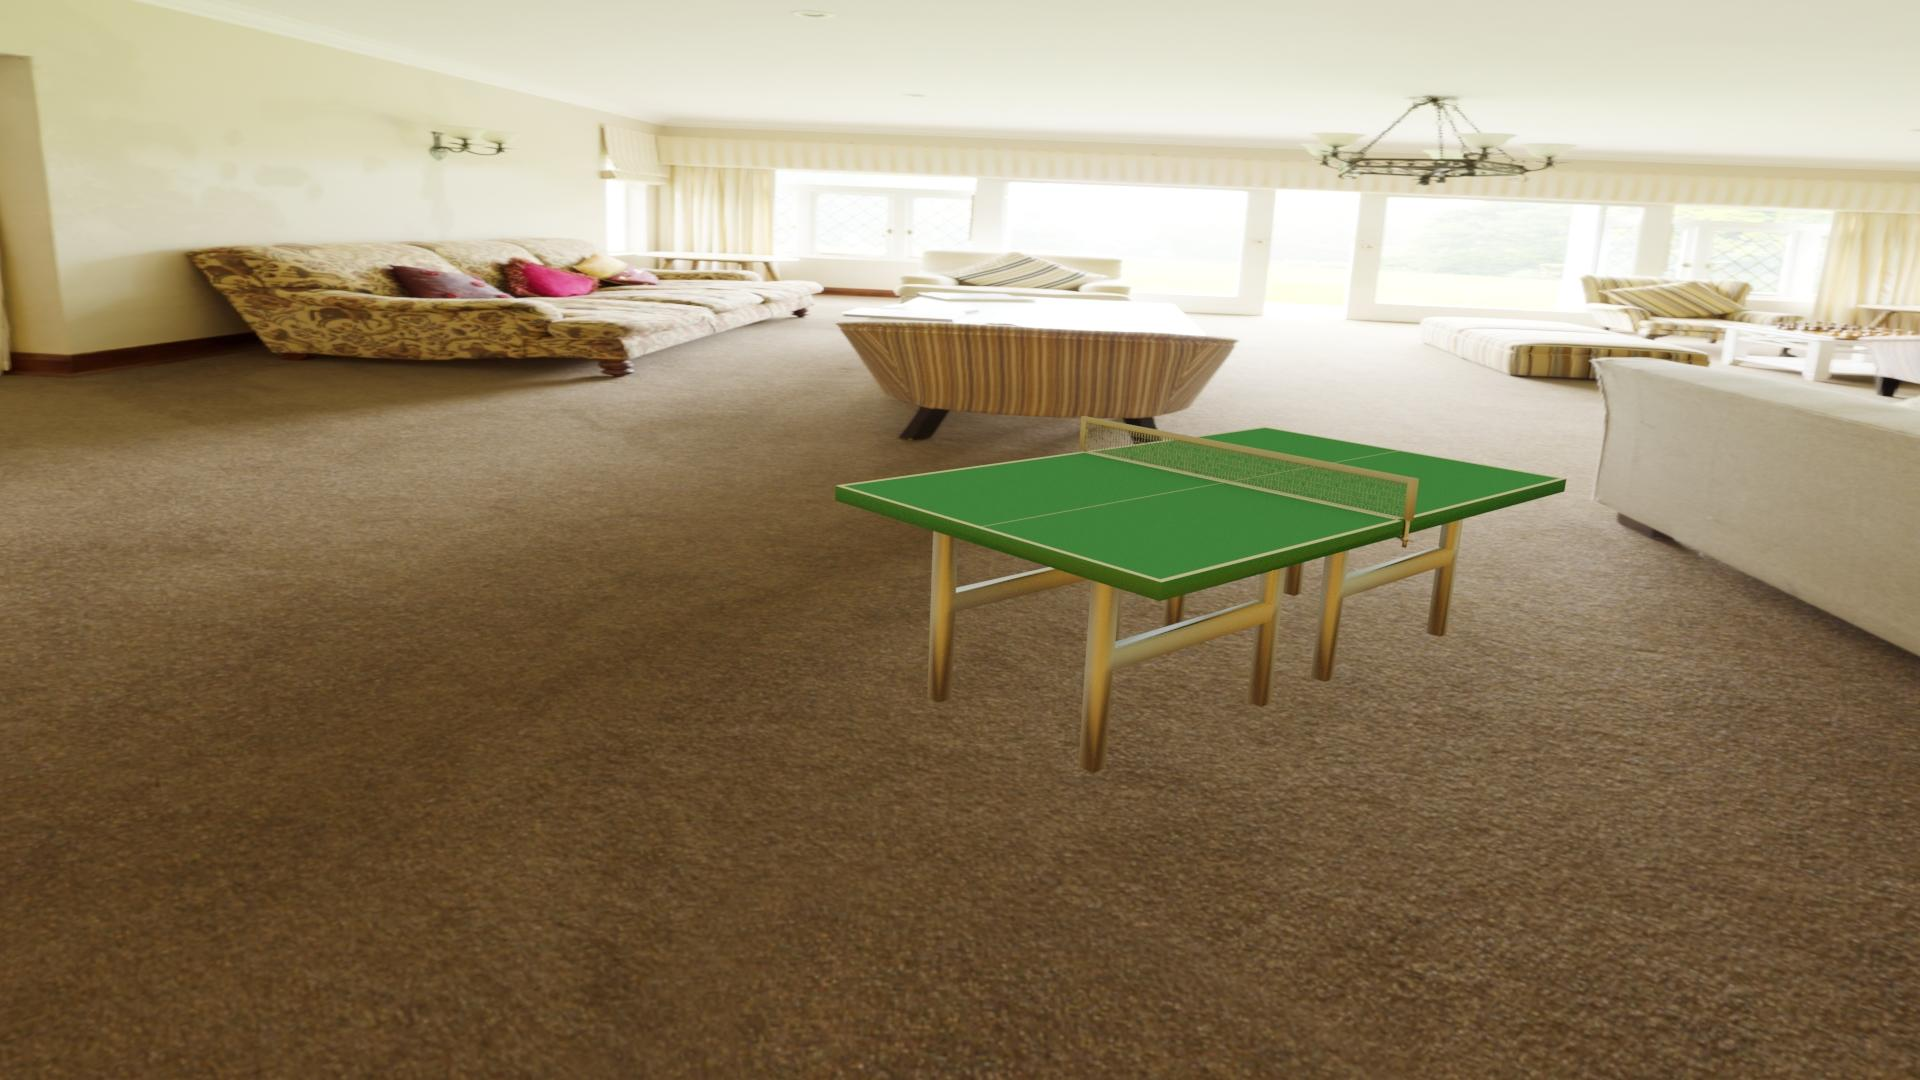table: (843, 427, 1560, 579)
